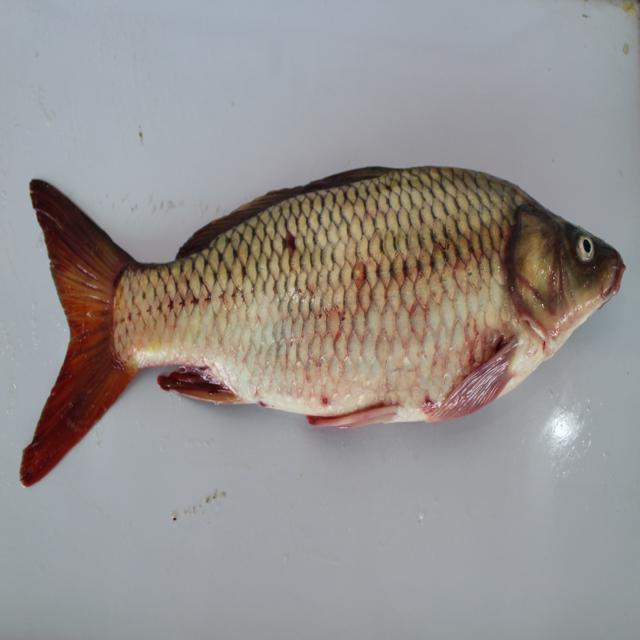CommonCarp: (25, 158, 629, 503)
